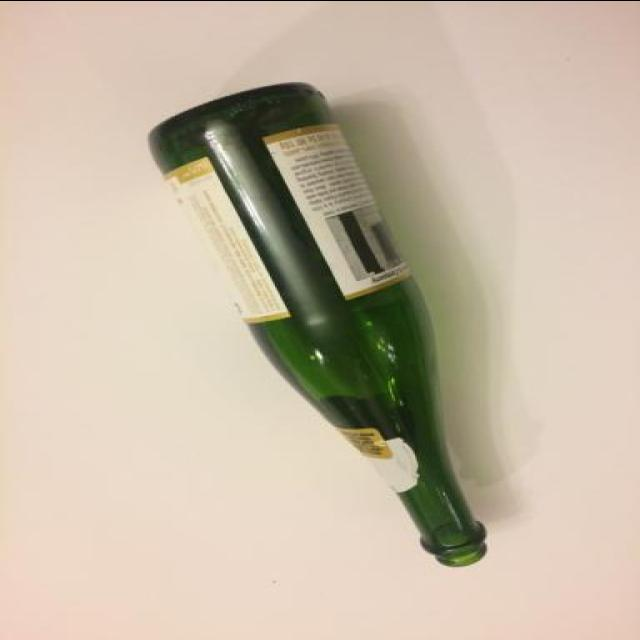litter: (145, 77, 500, 568)
